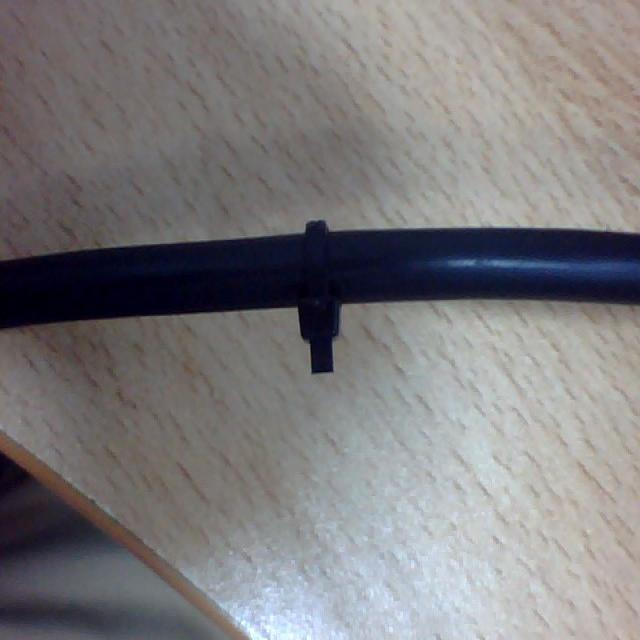cable-tie: (297, 220, 341, 373)
